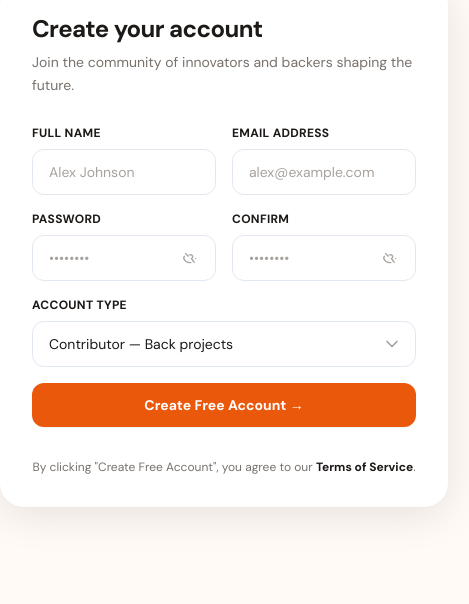
Test: RegisterForm (Critical) › shows error if passwords do not match
The width and height of the screenshot is (469, 604).
Type "Test User" into the field labelled "Full name".
click(124, 172); type("Test User")  # box [32, 148, 216, 194]
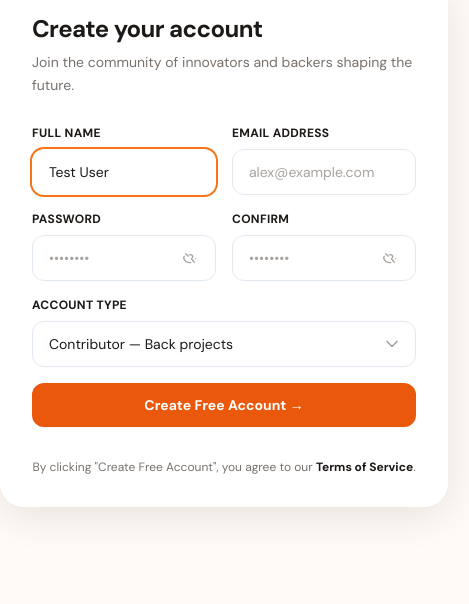
Type "test@example.com" into the field labelled "Email address".
click(324, 172); type("test@example.com")  # box [232, 148, 416, 194]
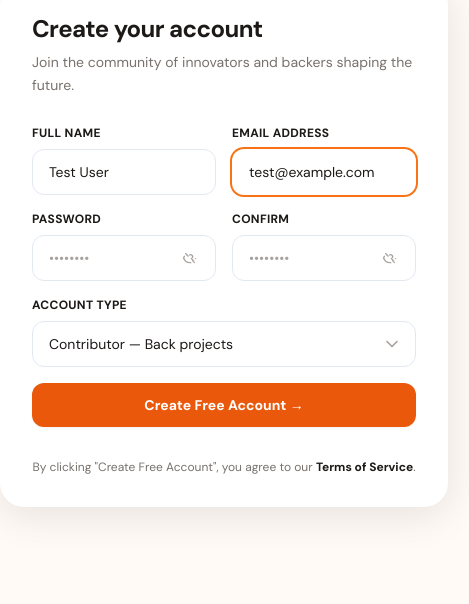
Type "Password123!" into the password field labelled "Password".
click(124, 258); type("Password123!")  # box [32, 234, 216, 280]
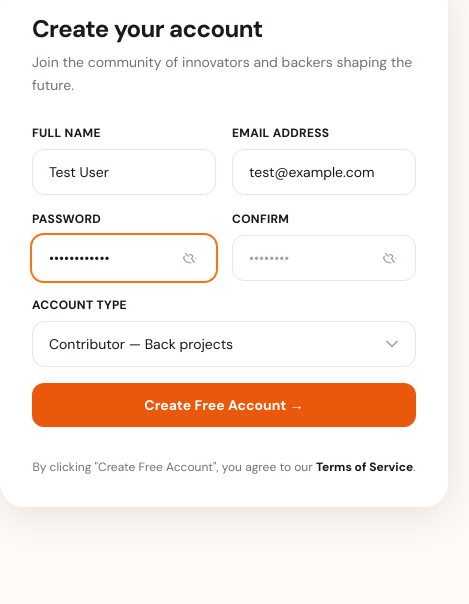
Type "DifferentPassword!" into the password field labelled "Confirm".
click(324, 258); type("DifferentPassword!")  # box [232, 234, 416, 280]
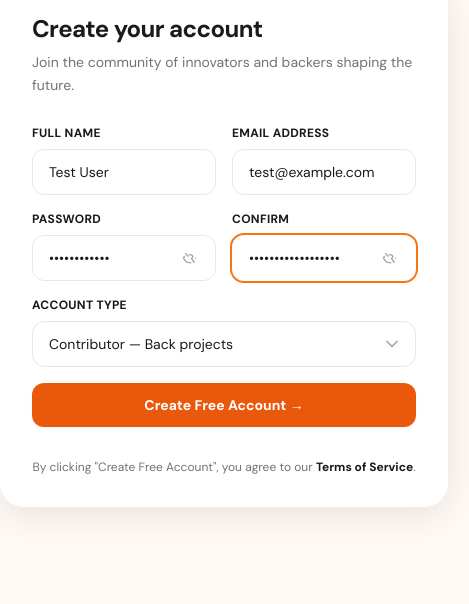
Click the button "Create Free Account →".
click(224, 404)  # box [32, 382, 416, 426]
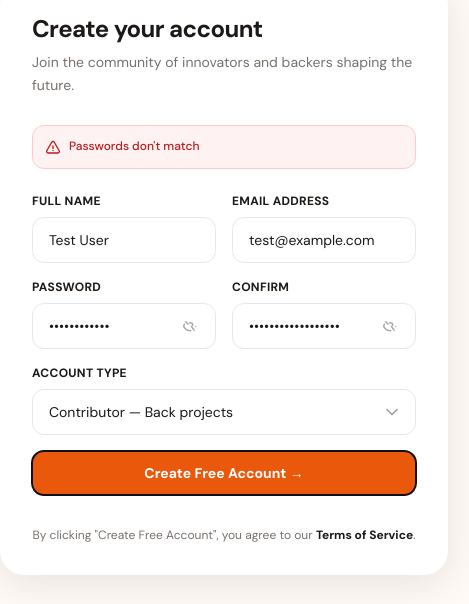
Check: the text "Passwords don't match" is shown, box [69, 138, 200, 154]
